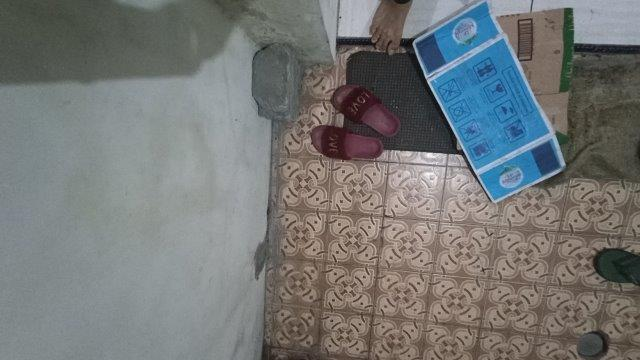kardus: (414, 2, 573, 202)
